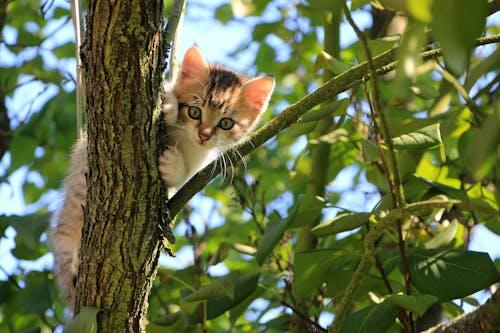kedo: (158, 45, 277, 187)
